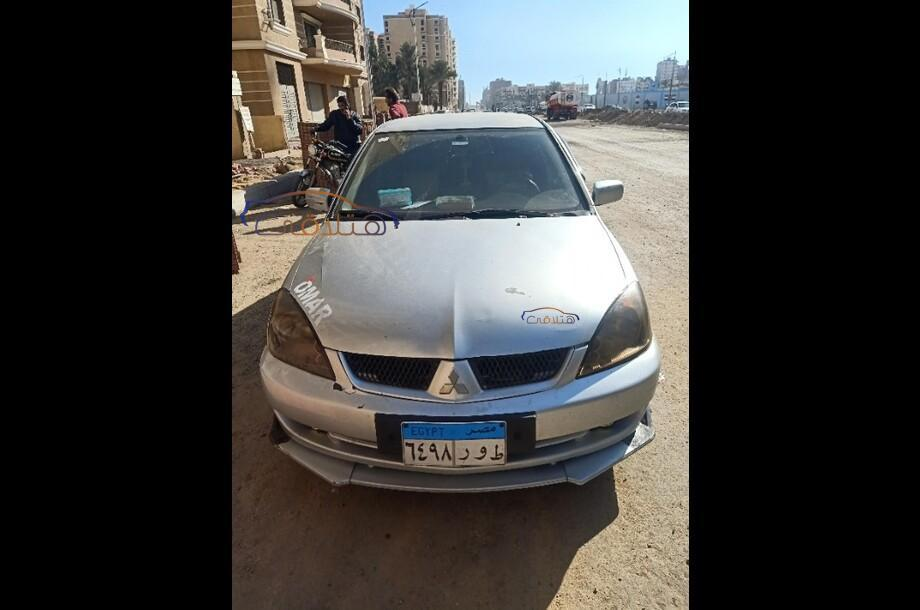Mitsubishi: (438, 360, 481, 406)
